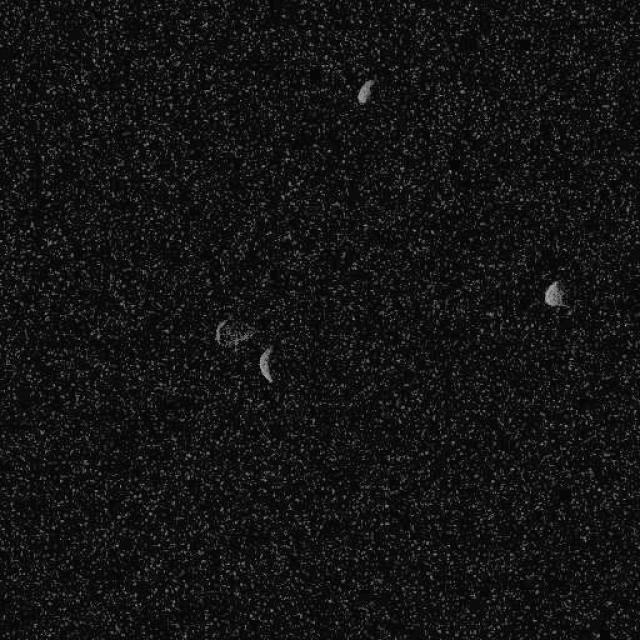D2: (214, 318, 255, 348), (542, 279, 568, 310), (257, 343, 275, 382), (355, 77, 375, 105)
